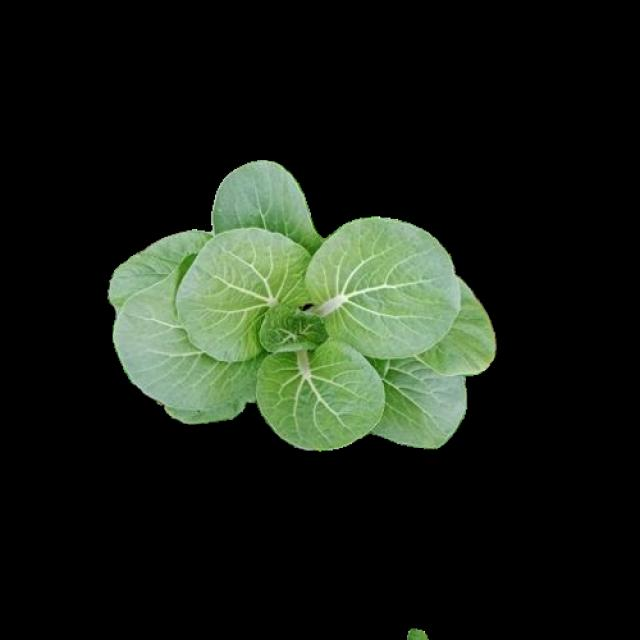healthy: (105, 177, 499, 466)
mature: (102, 164, 496, 453)
